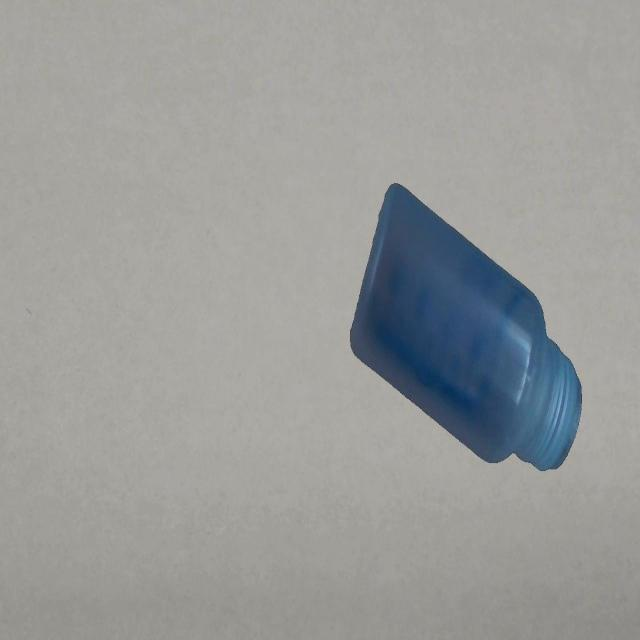bottle: (347, 176, 586, 476)
